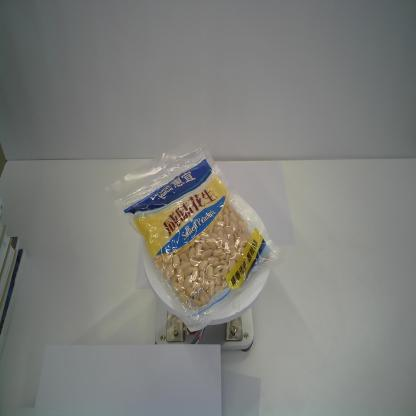Dried Fruit: (106, 137, 281, 333)
